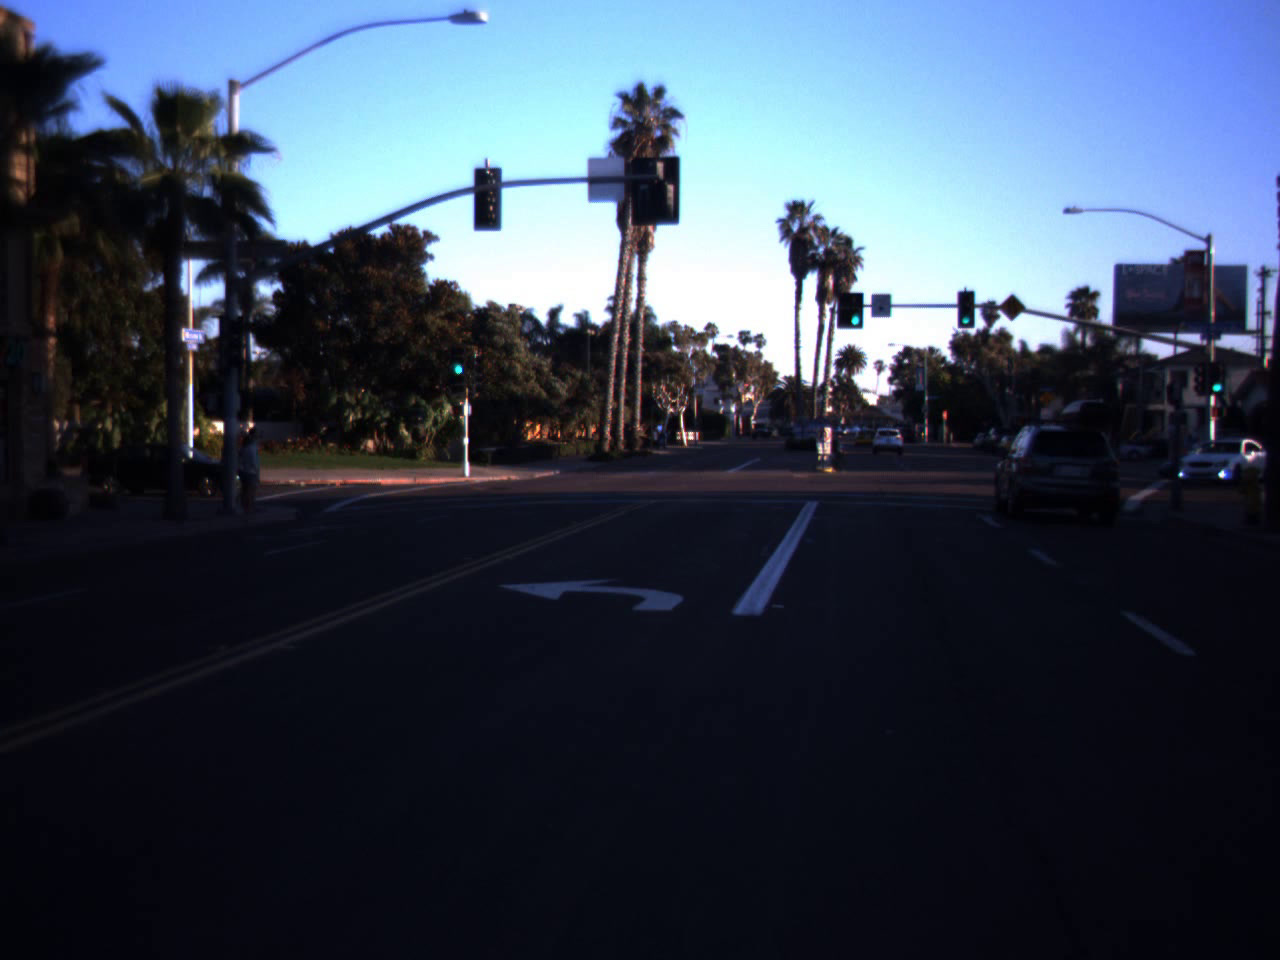go: (449, 338, 469, 378), (846, 289, 864, 329), (955, 297, 976, 327)
